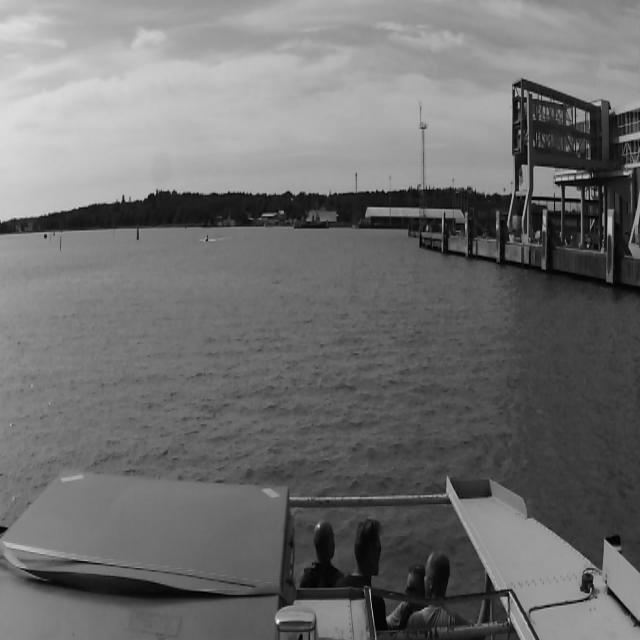buoy: (133, 223, 141, 237)
